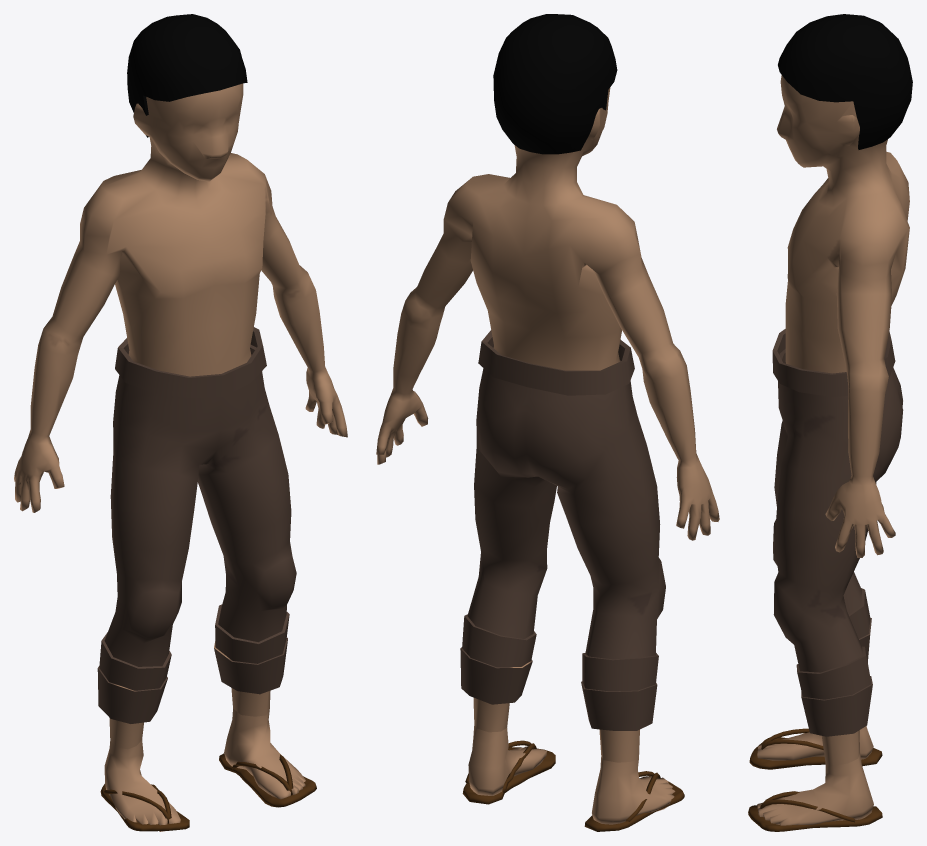
Rendered from Ang.glb.
The picture shows the model from 3 angles, left to right: view 1: azimuth 30°, elevation 25°; view 2: azimuth 150°, elevation 25°; view 3: azimuth 270°, elevation 25°; orthographic projection. The views are drawn at different scales.
Visible parts, largest first — view 1: Ang.001; view 2: Ang.001; view 3: Ang.001.
Boxes of the visible parts, x1=… form: Ang.001: x1=14, y1=14, x2=347, y2=831; Ang.001: x1=376, y1=14, x2=719, y2=831; Ang.001: x1=748, y1=14, x2=912, y2=831.
Size of the model in its own units: 0.9357 by 2.16 by 0.4191.
1 material, 1 textured.
